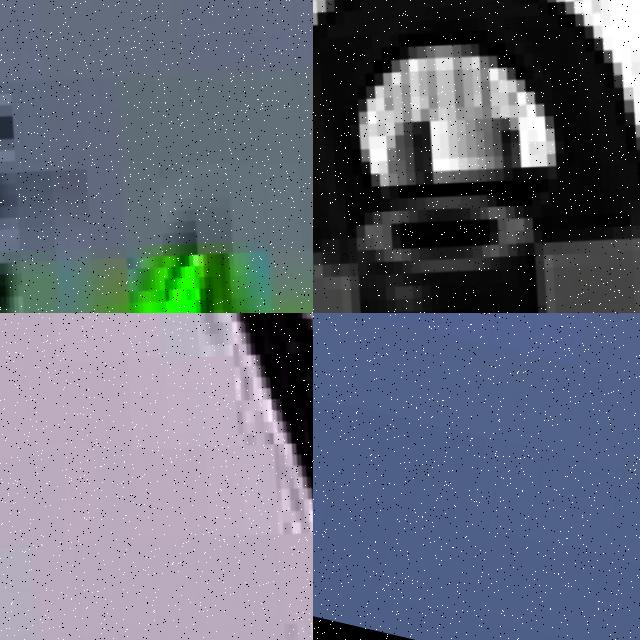0: (0, 313, 313, 640), (0, 0, 313, 313)
drone: (313, 0, 640, 313)
